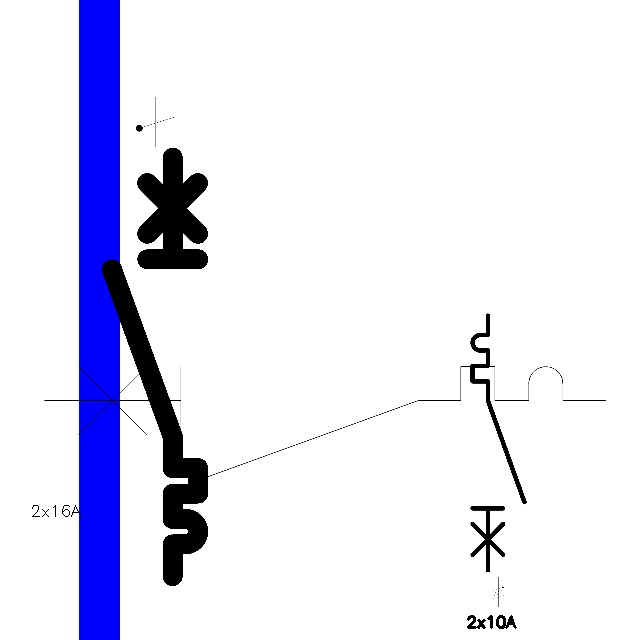interruptor_termomagnetico: (30, 352, 620, 496), (101, 146, 209, 586), (466, 309, 531, 577)
